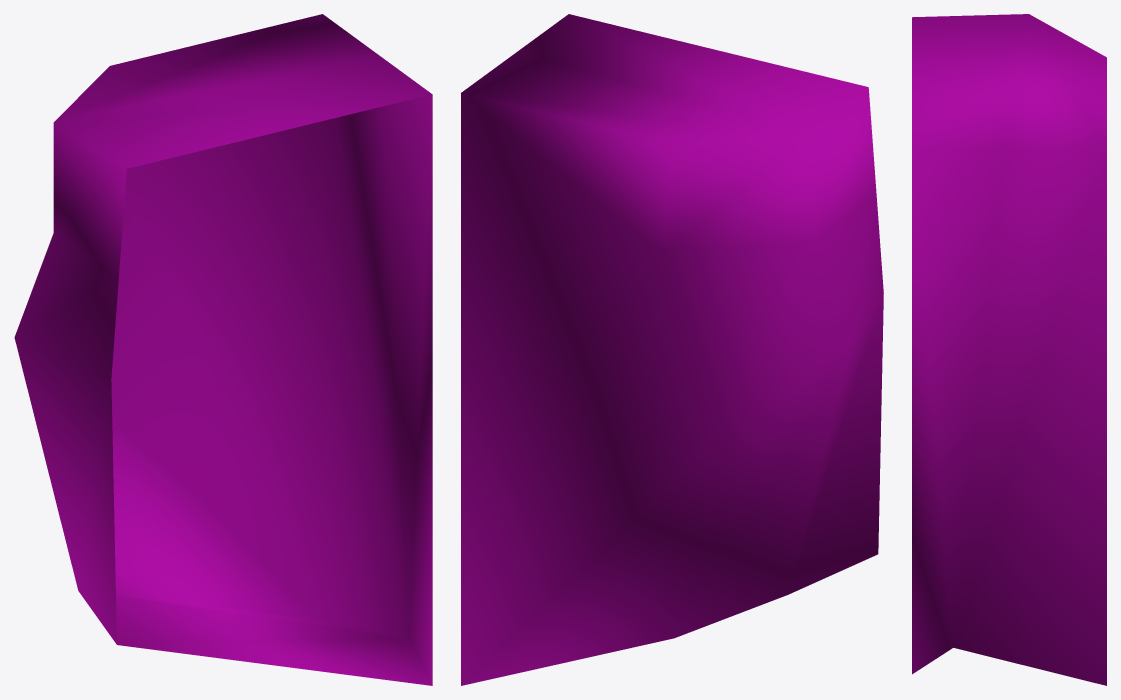
File: Collectionable_1_1.fbx
3 views of the same model, side by side, from view 1: azimuth 30°, elevation 25°; view 2: azimuth 150°, elevation 25°; view 3: azimuth 270°, elevation 25° (orthographic). The views are drawn at different scales.
Parts seen in each view (by area): view 1: Collectionable_1_1; view 2: Collectionable_1_1; view 3: Collectionable_1_1.
Part boxes in pixels (x1,y1,x2,y2): Collectionable_1_1: [14, 14, 432, 685]; Collectionable_1_1: [461, 14, 883, 685]; Collectionable_1_1: [912, 14, 1106, 685].
Bounding box in the file's own units: 5.77 × 9.45 × 3.11.
